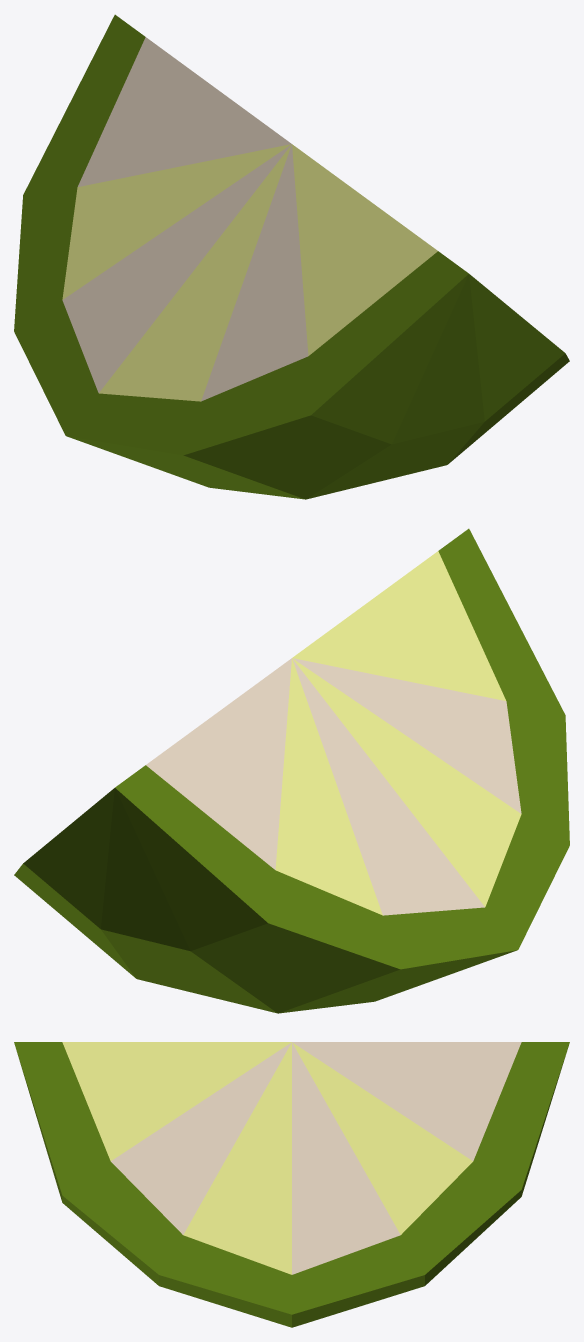
File: SM_Cook_LimeWedge_01.fbx
3 renders of one model, top to bottom at view 1: azimuth 30°, elevation 25°; view 2: azimuth 150°, elevation 25°; view 3: azimuth 270°, elevation 25°, orthographic. The views are drawn at different scales.
Parts seen in each view (by area): view 1: SM_Cook_LimeWedge_01; view 2: SM_Cook_LimeWedge_01; view 3: SM_Cook_LimeWedge_01.
Part boxes in pixels (box(x1,y1,x2,y2)): SM_Cook_LimeWedge_01: box(14, 14, 569, 499); SM_Cook_LimeWedge_01: box(14, 528, 569, 1013); SM_Cook_LimeWedge_01: box(14, 1042, 569, 1327).
Bounding box in the file's own units: 0.0339 × 0.0232 × 0.046.
Materials: 1 (1 with a texture image).
